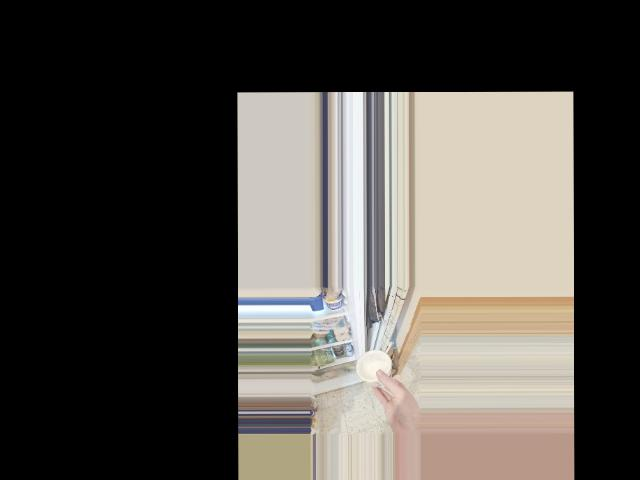cotage: (357, 345, 392, 390)
